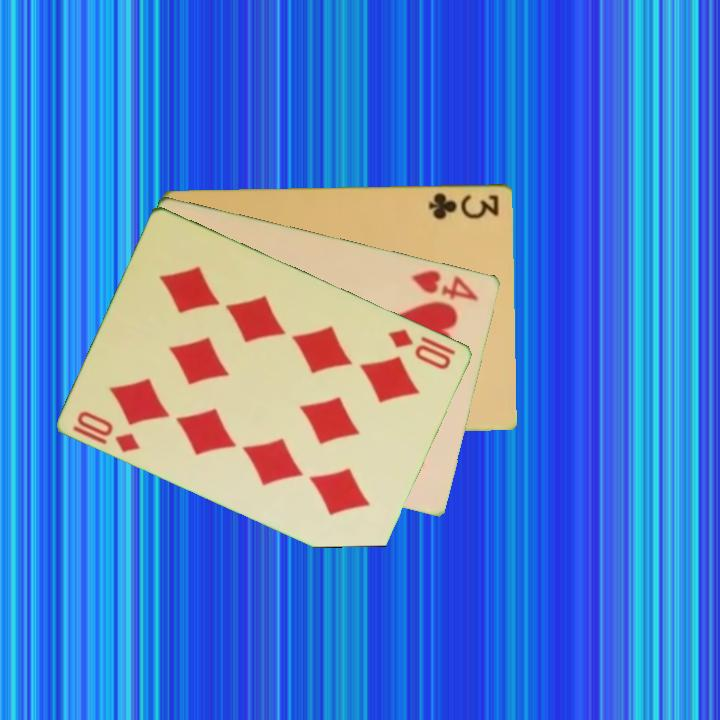10d: (385, 325, 460, 373), (69, 407, 144, 455)
3c: (425, 188, 502, 222)
4h: (408, 266, 482, 304)
